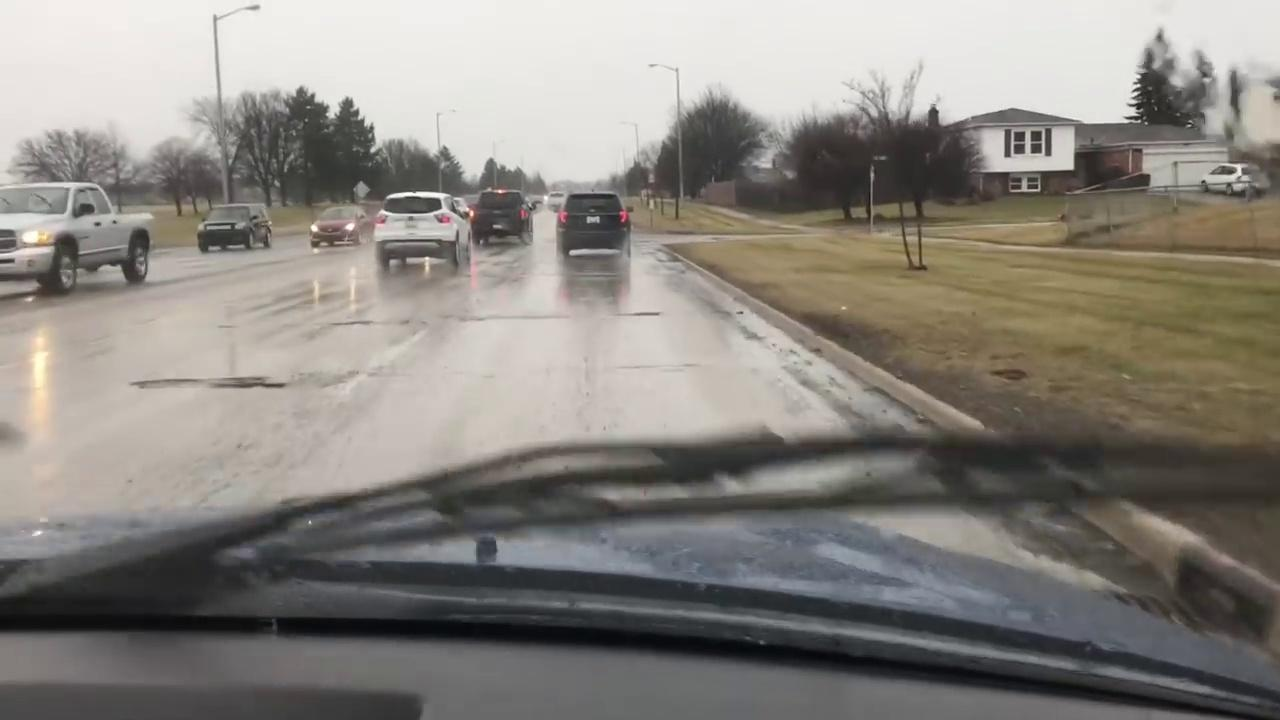pothole: (130, 375, 288, 389)
